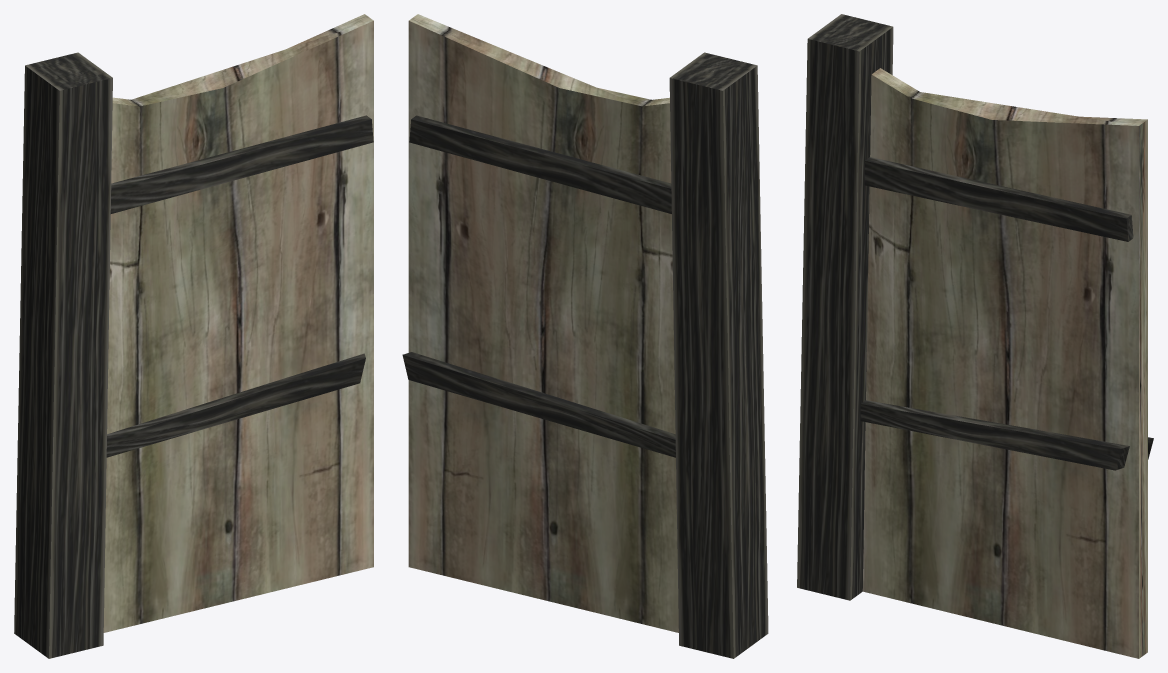
File: pir_m_bld_wal_shanty20.fbx
3 renders of one model, left to right at view 1: azimuth 30°, elevation 25°; view 2: azimuth 150°, elevation 25°; view 3: azimuth 330°, elevation 25°, orthographic. The views are drawn at different scales.
Parts seen in each view (by area): view 1: wall, crossboard, cross_board; view 2: wall, crossboard, cross_board; view 3: wall, crossboard, cross_board.
Boxes of the visible parts, x1=… form: wall: x1=14, y1=14, x2=373, y2=658; crossboard: x1=110, y1=115, x2=373, y2=213; cross_board: x1=106, y1=353, x2=365, y2=457; wall: x1=408, y1=14, x2=768, y2=658; crossboard: x1=409, y1=115, x2=671, y2=213; cross_board: x1=402, y1=352, x2=675, y2=457; wall: x1=797, y1=14, x2=1147, y2=658; crossboard: x1=864, y1=157, x2=1133, y2=241; cross_board: x1=860, y1=400, x2=1153, y2=470.
Size of the model in its own units: 2318 by 3697 by 412.
2 materials, 2 textured.
